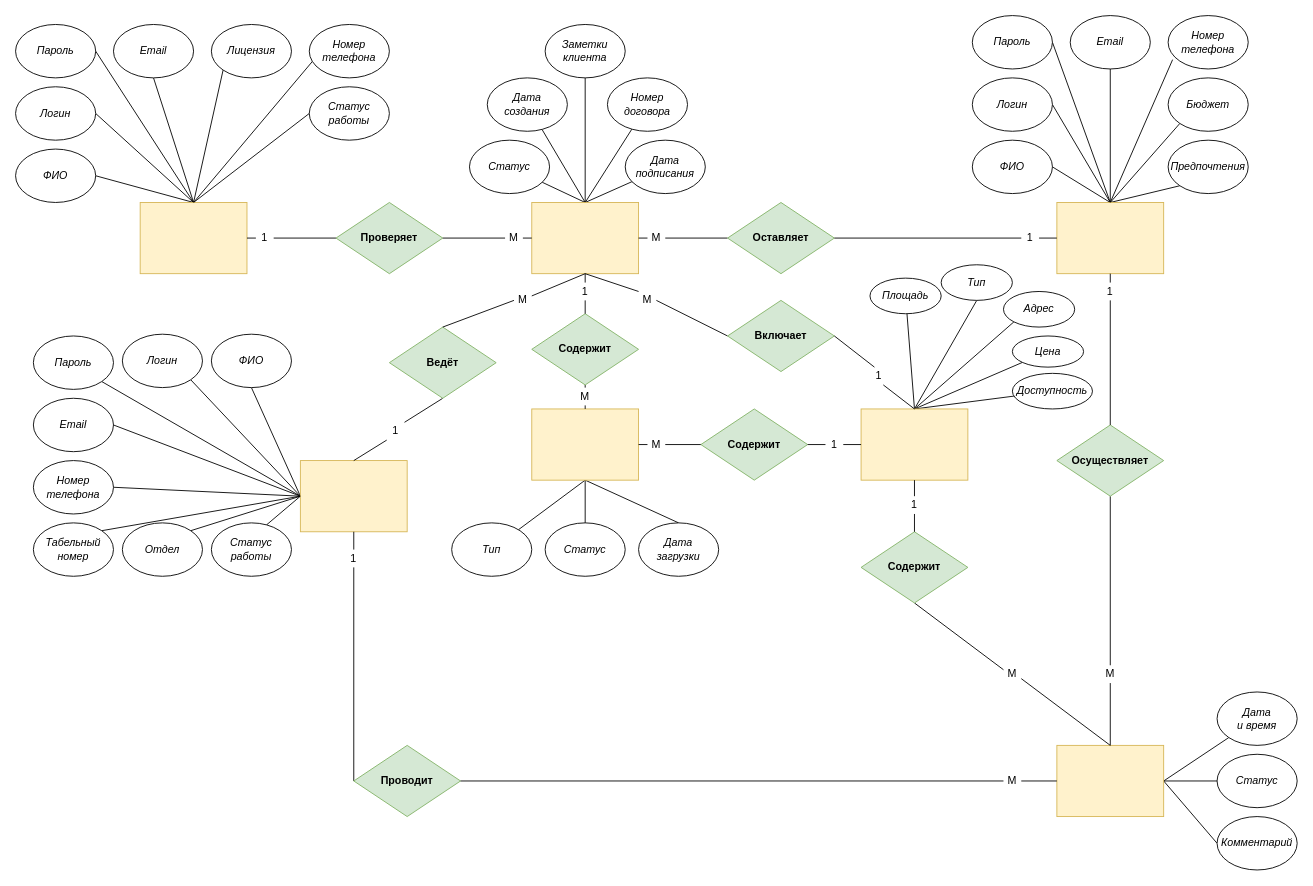
Some shapes in this 1313 by 886 pixel diagram are drawn without their labels. Here are the shapes that lost their labels. From the top down, the centre of each, then its label:
the point at 193,238: Юрист
the point at 585,238: Заявка
the point at 1110,238: Клиент
the point at 585,444: Документ
the point at 914,444: Объект недвижимости
the point at 353,496: Менеджер
the point at 1110,780: Просмотр
